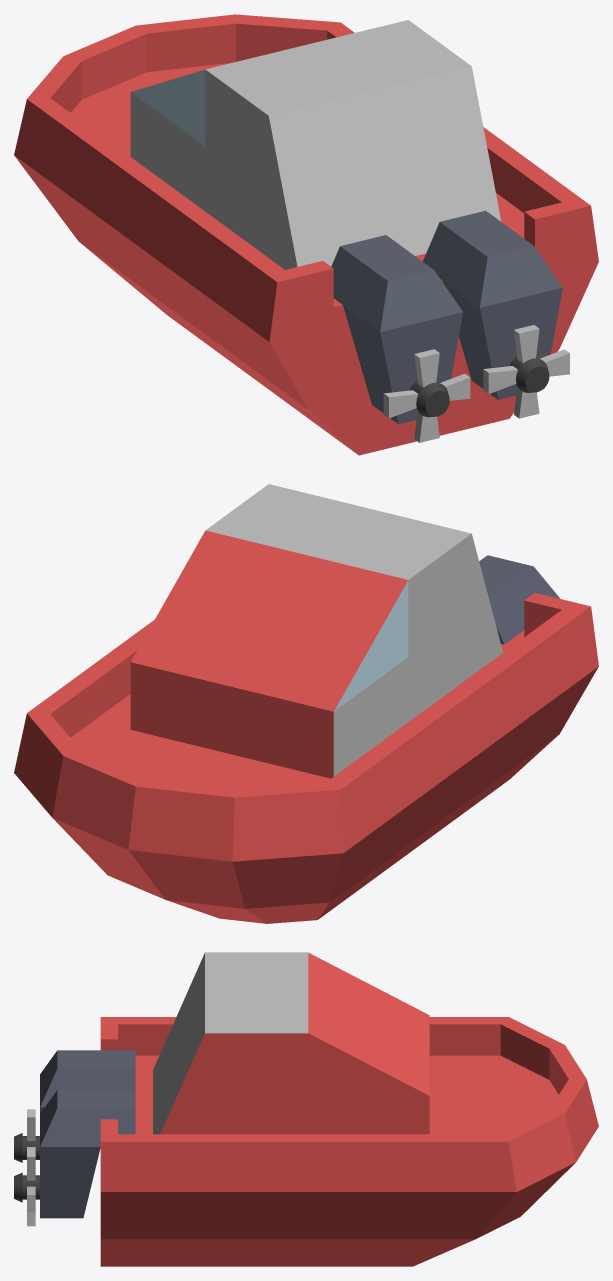
The model's file is boat_008.fbx.
3 views of the same model, one above another, from view 1: azimuth 30°, elevation 25°; view 2: azimuth 150°, elevation 25°; view 3: azimuth 270°, elevation 25° (orthographic). The views are drawn at different scales.
Parts seen in each view (by area): view 1: boat_008, Group (×4); view 2: boat_008, Group; view 3: boat_008, Group (×3).
Part boxes in pixels (left/top/right/bottom): boat_008: left=14, top=14, right=598, bottom=455; Group (×4): left=331, top=210, right=569, bottom=442; boat_008: left=14, top=484, right=598, bottom=923; Group: left=479, top=555, right=560, bottom=644; boat_008: left=100, top=952, right=598, bottom=1266; Group (×3): left=14, top=1050, right=135, bottom=1226.
Size of the model in its own units: 17.85 by 15.5 by 33.7.
